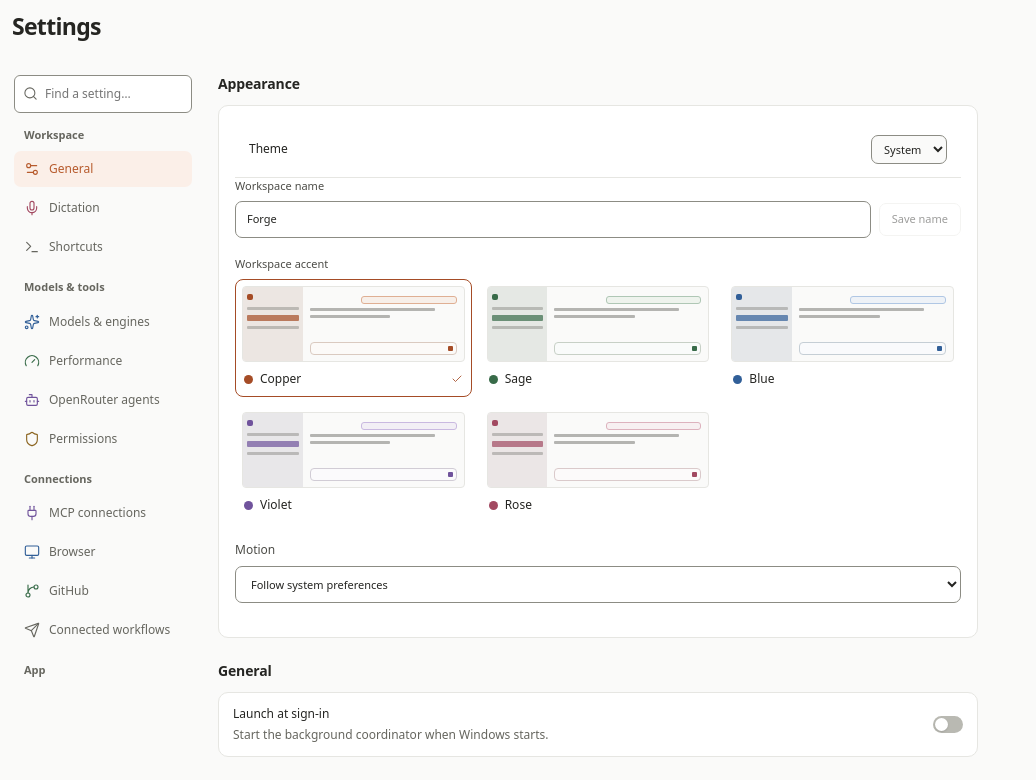
Scenario: settings navigation › provides a clear search result and restores keyboard focus when cleared
The image size is (1036, 780).
Type "unmatched phrase" into the field labelled "Find a setting" at x=114, y=94, box 45,85 -> 183,103
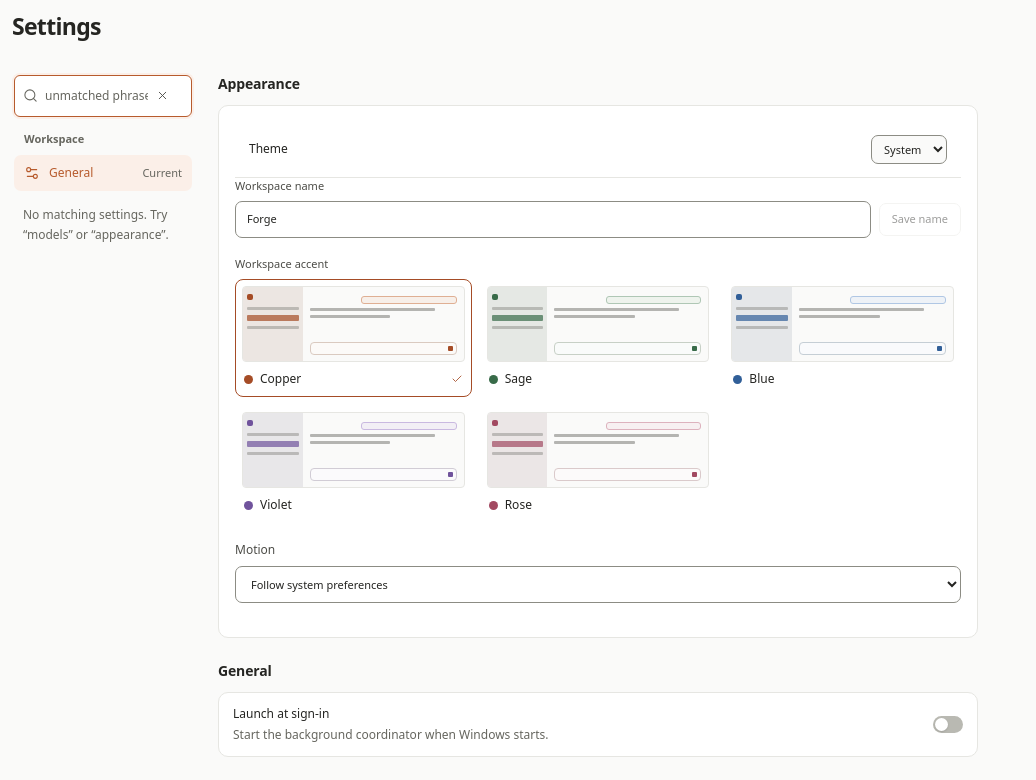
Now the message shows "No matching settings", box 23,206 -> 169,243
Click the button named "Clear settings search" at x=169, y=96, box 155,82 -> 183,110
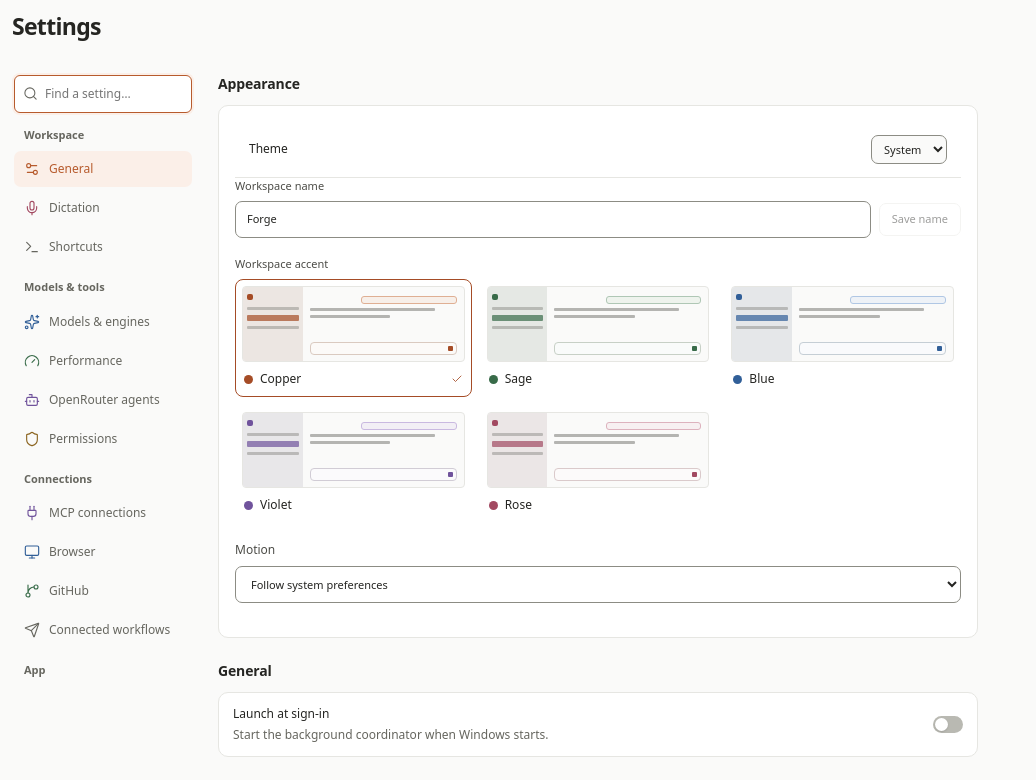
Now the field labelled "Find a setting" is empty, box 45,85 -> 183,103
